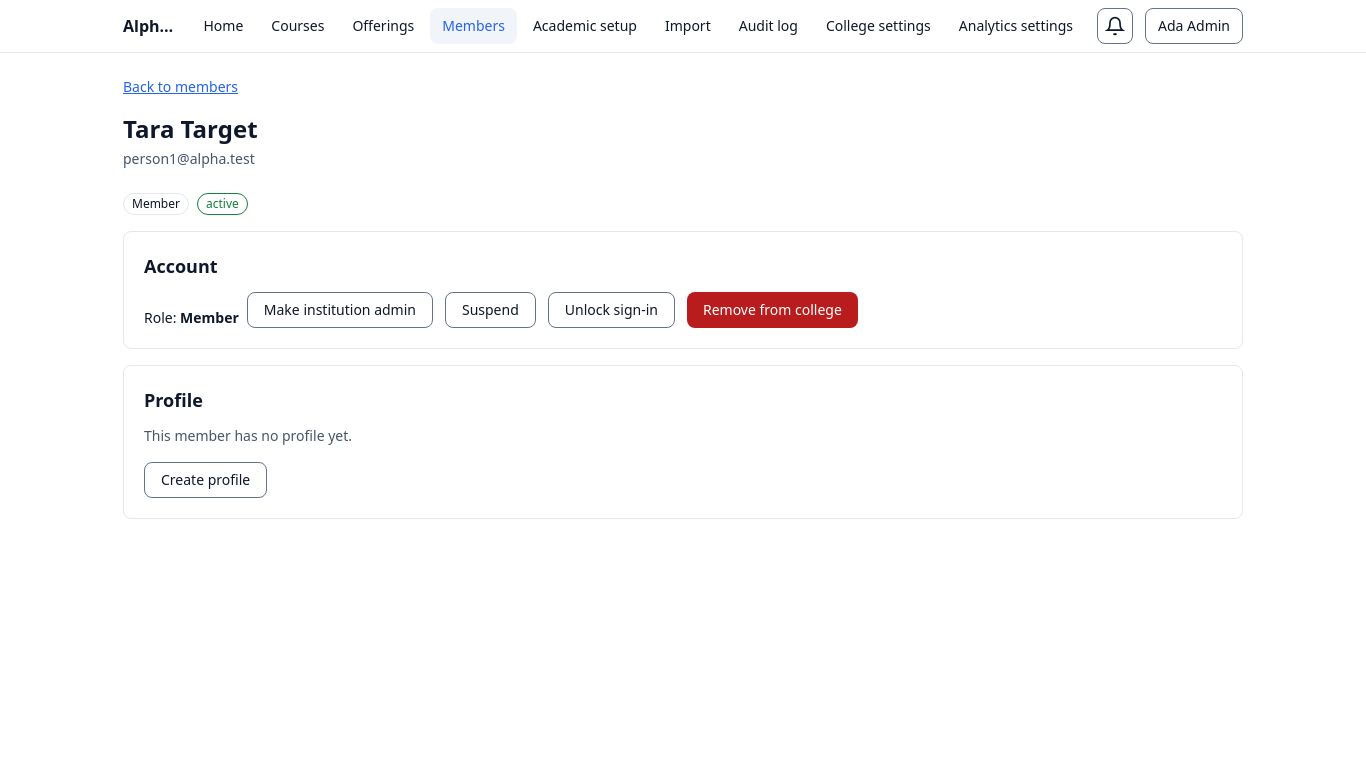
step-up › declined: nothing is sent again and the refusal is shown
Click the button "Suspend" at (490, 310), box [445,292,536,328]
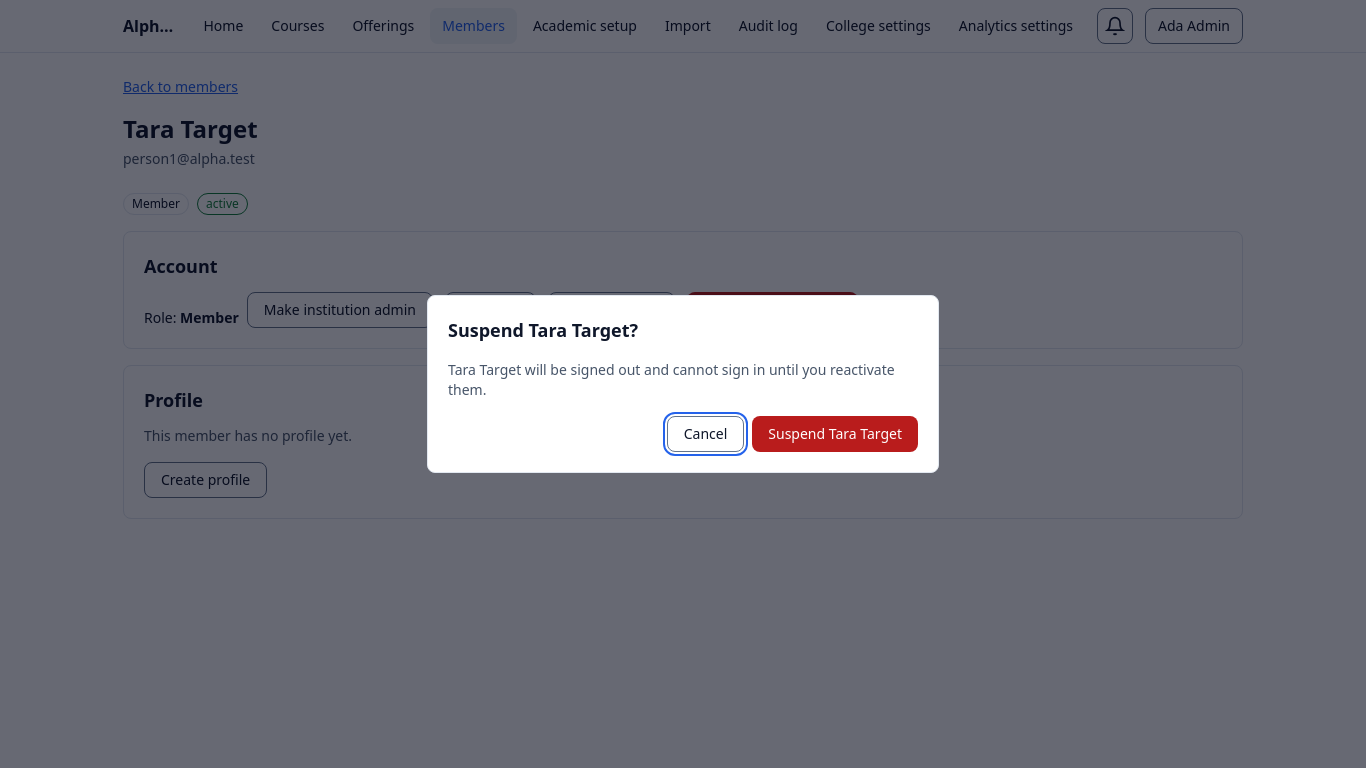
Click the button "Suspend Tara Target" at (835, 434), box [752,416,918,452]
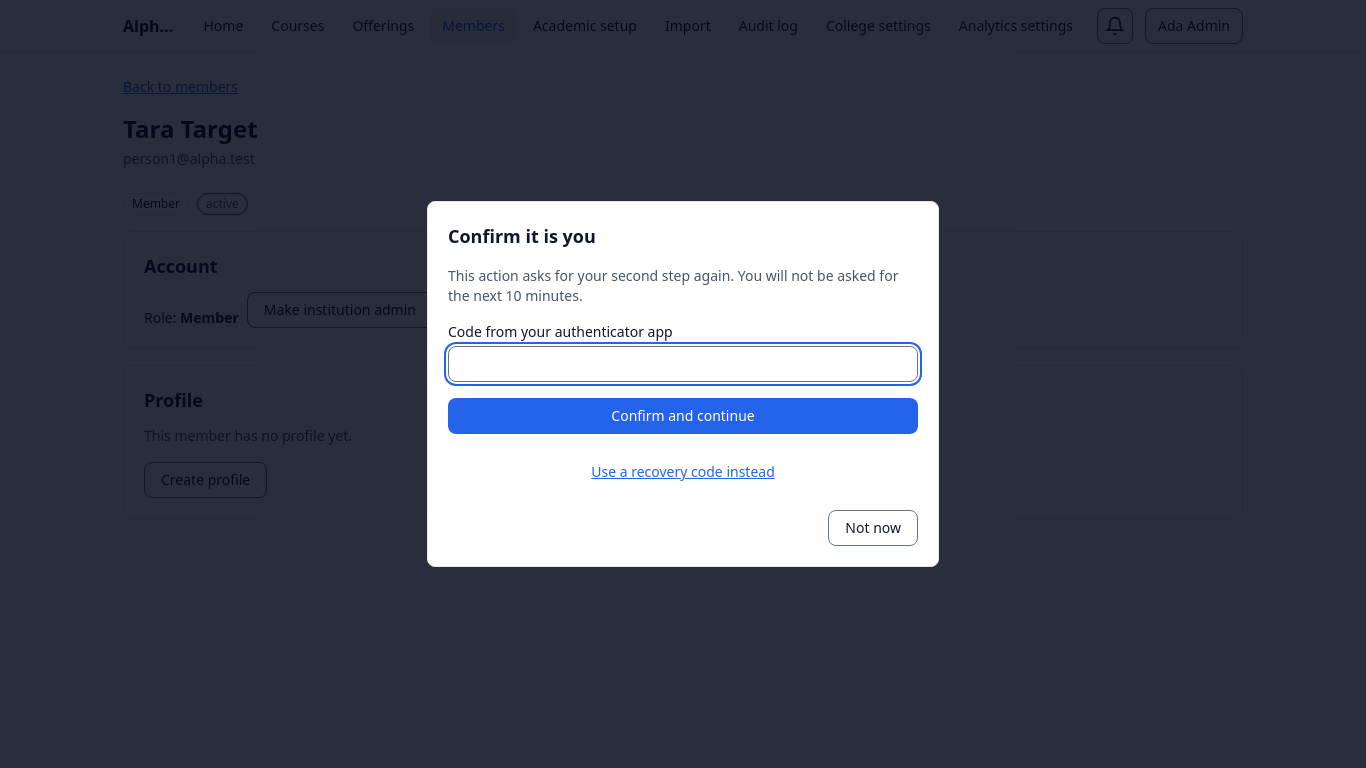
Click the button "Not now" at (873, 528), box [828,510,918,546]
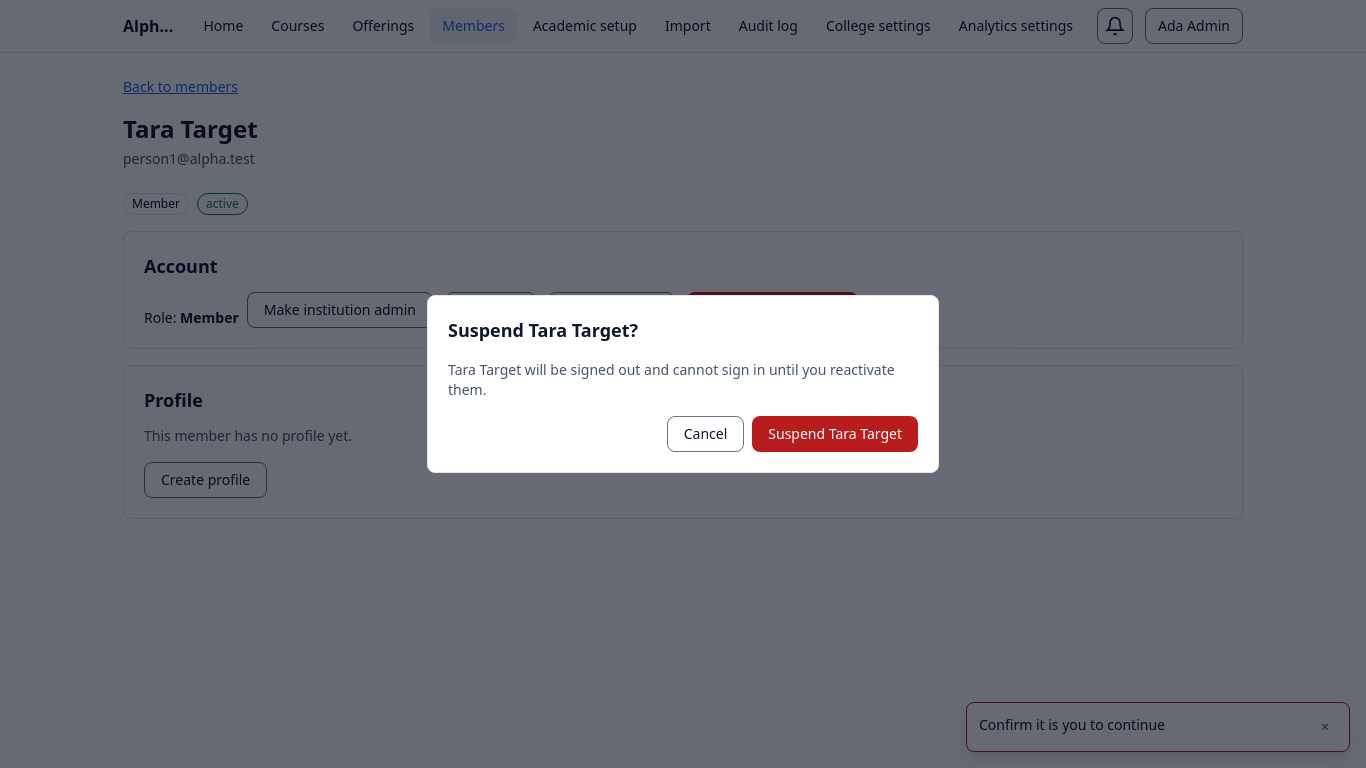
Check: the text "Confirm it is you to continue" is shown, box [979,715,1165,734]
